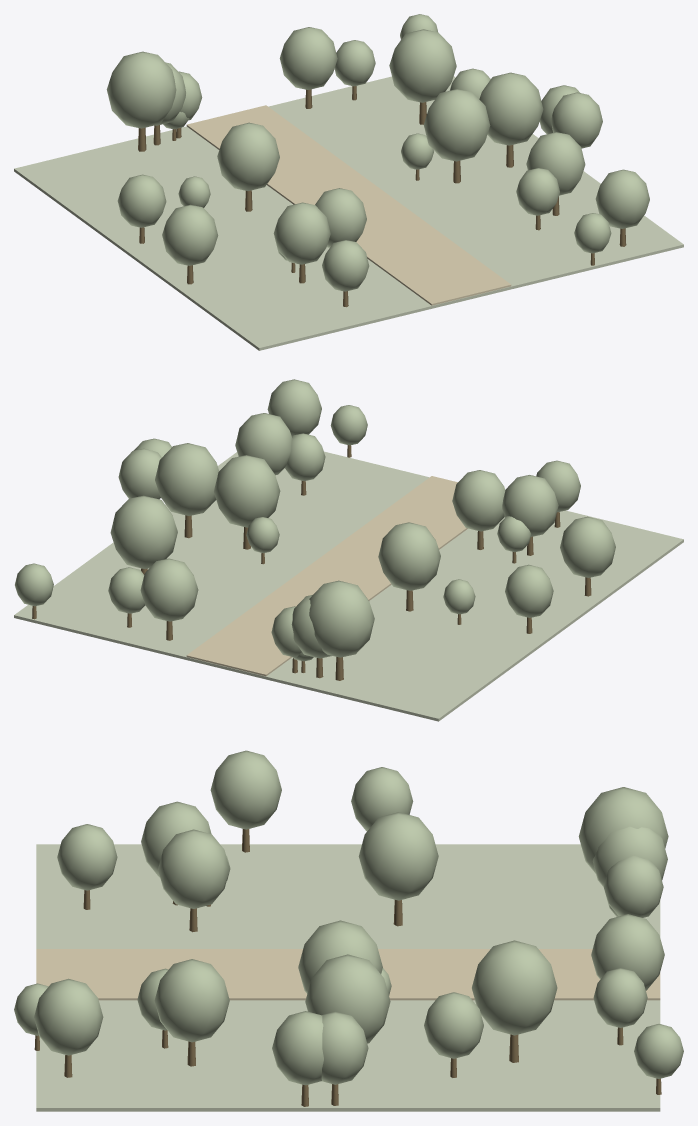
3 renders of one model, top to bottom at view 1: azimuth 30°, elevation 25°; view 2: azimuth 150°, elevation 25°; view 3: azimuth 270°, elevation 25°, orthographic. The views are drawn at different scales.
Visible parts, largest first — view 1: terrain, object 2, lod-near-11, lod-near-21, lod-near-3, lod-near-25, lod-near-14, lod-near-16, lod-near-8, lod-near-20, lod-near-22, lod-near-28 (+14 smaller); view 2: terrain, object 2, lod-near-11, lod-near-21, lod-near-25, lod-near-3, lod-near-14, lod-near-16, lod-near-20, lod-near-30, lod-near-8, lod-near-28 (+13 smaller); view 3: terrain, object 2, lod-near-21, lod-near-14, lod-near-28, lod-near-25, lod-near-30, lod-near-20, lod-near-22, lod-near-16, lod-near-11, lod-near-6 (+12 smaller).
Part boxes in pixels (box(x1,y1,x2,y2)): terrain: box(14, 76, 683, 350); object 2: box(186, 105, 511, 305); lod-near-11: box(106, 51, 176, 128); lod-near-21: box(389, 29, 456, 102); lod-near-3: box(423, 89, 490, 161); lod-near-25: box(479, 72, 543, 145); lod-near-14: box(217, 122, 279, 190); lod-near-16: box(279, 27, 337, 89); lod-near-8: box(273, 202, 330, 264); lod-near-20: box(162, 204, 218, 265); lod-near-22: box(595, 169, 649, 228); lod-near-28: box(526, 132, 585, 195); terrain: box(14, 451, 683, 721); object 2: box(186, 476, 467, 676); lod-near-11: box(309, 580, 374, 657); lod-near-21: box(110, 495, 177, 568); lod-near-25: box(155, 443, 219, 515); lod-near-3: box(214, 455, 280, 527); lod-near-14: box(378, 522, 440, 590); lod-near-16: box(140, 558, 198, 621); lod-near-20: box(560, 516, 615, 577); lod-near-30: box(452, 470, 505, 531); lod-near-8: box(502, 475, 558, 536); lod-near-28: box(235, 413, 292, 475); terrain: box(36, 844, 660, 1111); object 2: box(36, 949, 660, 1000); lod-near-21: box(472, 940, 557, 1035); lod-near-14: box(358, 812, 438, 900); lod-near-28: box(154, 959, 229, 1042); lod-near-25: box(305, 954, 390, 1043); lod-near-30: box(158, 829, 229, 908); lod-near-20: box(210, 750, 281, 829); lod-near-22: box(34, 978, 103, 1055); lod-near-16: box(591, 914, 664, 990); lod-near-11: box(578, 787, 668, 873); lod-near-6: box(272, 1011, 323, 1085).
Bounding box in the file's own units: 34.43 × 7.27 × 34.35.
